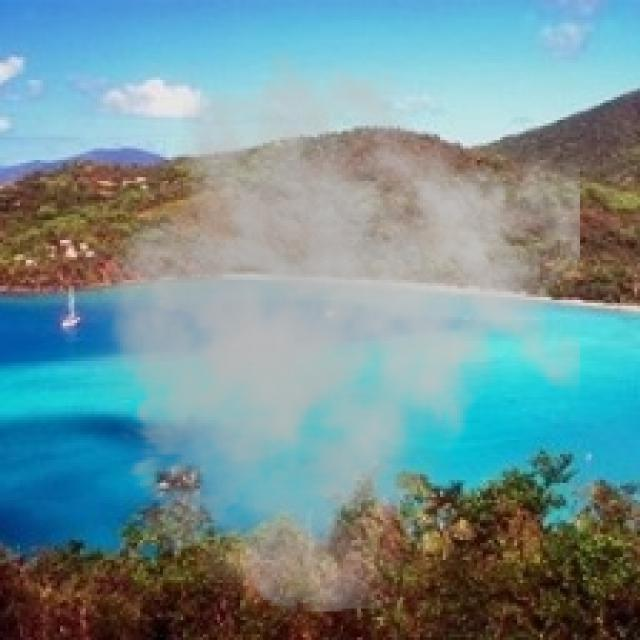smoke: (60, 46, 580, 614)
